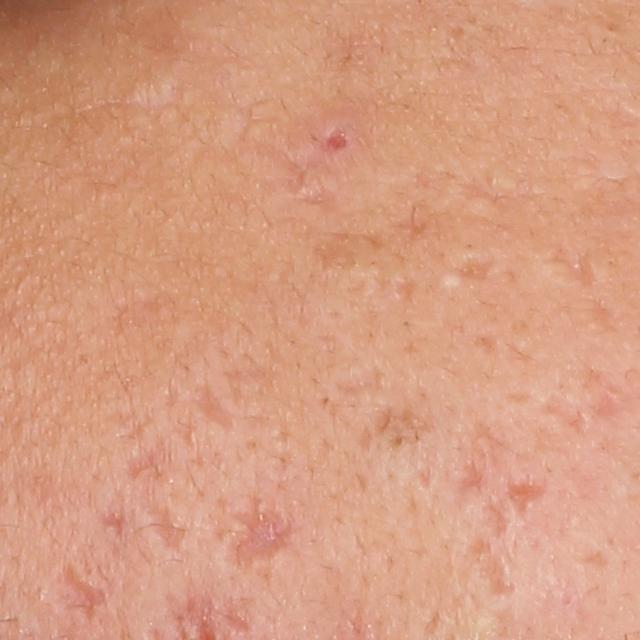atrophic_scar: (536, 369, 626, 436), (227, 495, 296, 577), (41, 554, 113, 622), (136, 498, 190, 554), (538, 241, 595, 292), (453, 170, 520, 212), (187, 382, 238, 432), (328, 361, 388, 402), (122, 439, 175, 483), (475, 546, 515, 595), (509, 483, 550, 522), (98, 506, 136, 546), (453, 252, 499, 280), (391, 273, 422, 304), (579, 545, 608, 575), (318, 129, 348, 151)
hypertrophic_scar: (437, 271, 464, 291)
